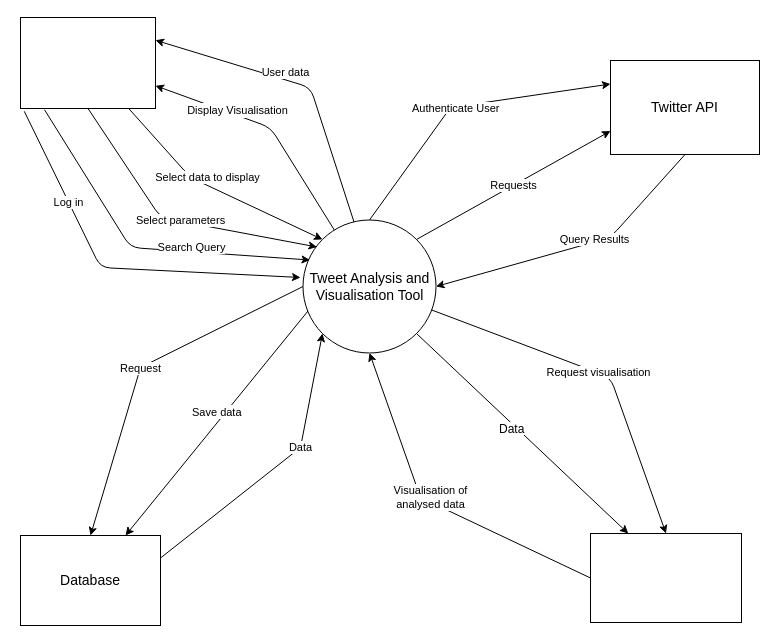
The diagram is 778 pixels wide and 643 high, and some of its shapes have lost their labels. The shapes that lost their labels are listed below. From the top down, each one's centre as x and y in pixels, then its label:
At point 88,62: "User".
At point 666,577: "Plot.ly".
